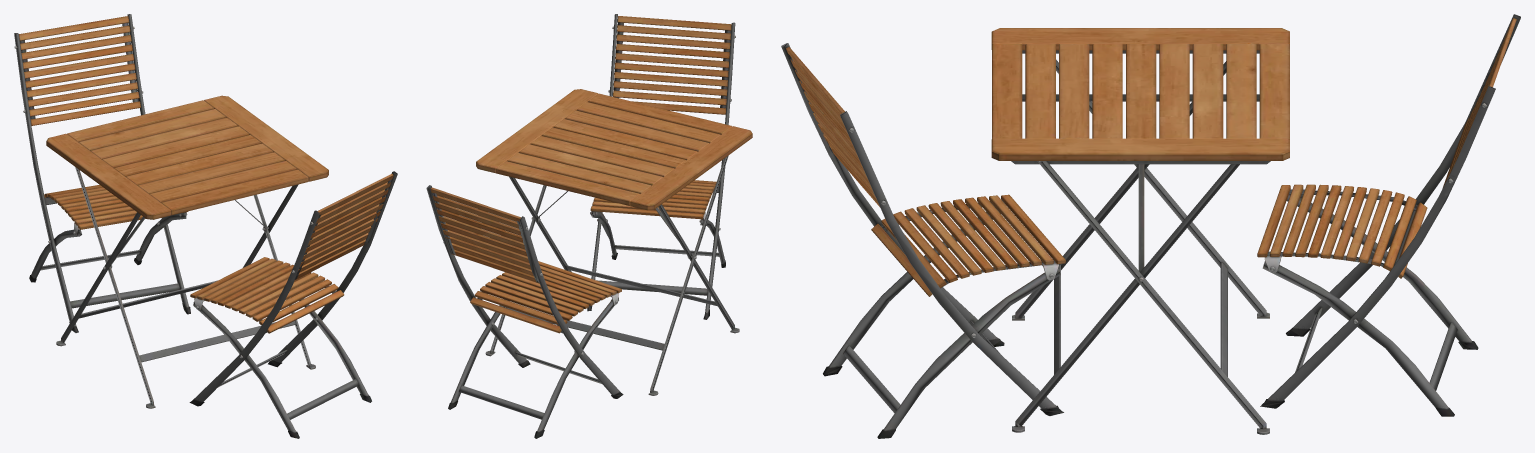
The model's file is ph-outdoor_table_chair_set_01.glb.
The picture shows the model from 3 angles, left to right: view 1: azimuth 30°, elevation 25°; view 2: azimuth 150°, elevation 25°; view 3: azimuth 270°, elevation 25°; orthographic projection. The views are drawn at different scales.
Parts seen in each view (by area): view 1: outdoor_table_chair_set_01_chair_01, outdoor_table_chair_set_01_table; view 2: outdoor_table_chair_set_01_chair_01, outdoor_table_chair_set_01_table; view 3: outdoor_table_chair_set_01_table, outdoor_table_chair_set_01_chair_01.
Part boxes in pixels (x1,y1,x2,y2): outdoor_table_chair_set_01_chair_01: [14, 14, 397, 438]; outdoor_table_chair_set_01_table: [46, 95, 328, 408]; outdoor_table_chair_set_01_chair_01: [426, 14, 735, 438]; outdoor_table_chair_set_01_table: [476, 89, 752, 395]; outdoor_table_chair_set_01_table: [991, 28, 1289, 434]; outdoor_table_chair_set_01_chair_01: [781, 14, 1520, 438].
Bounding box in the file's own units: 0.7416 × 0.8579 × 1.72.
Materials: 2 (2 with a texture image).
